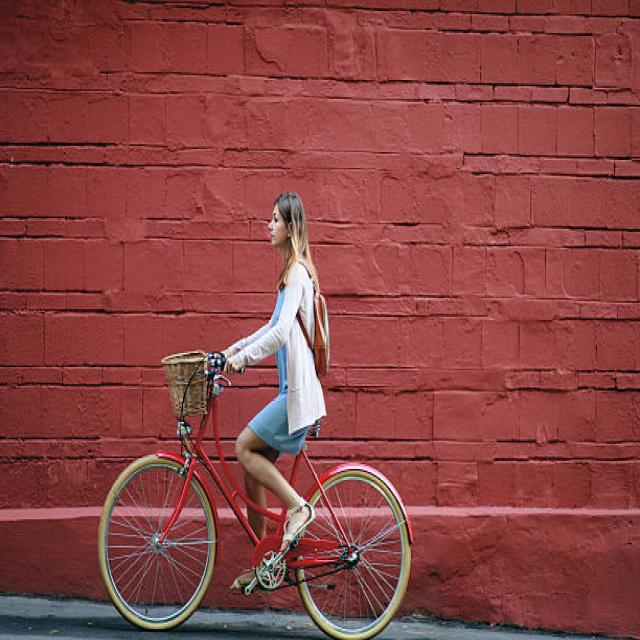bicycle: (99, 193, 411, 638)
